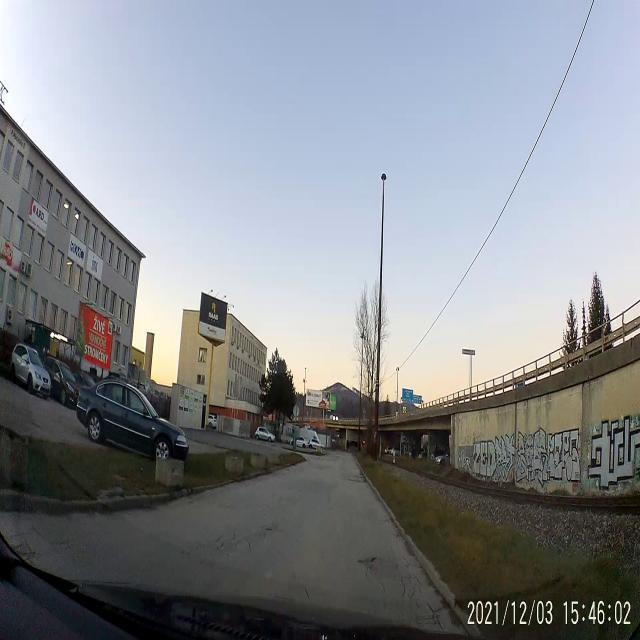Pothole: (356, 554, 402, 582)
